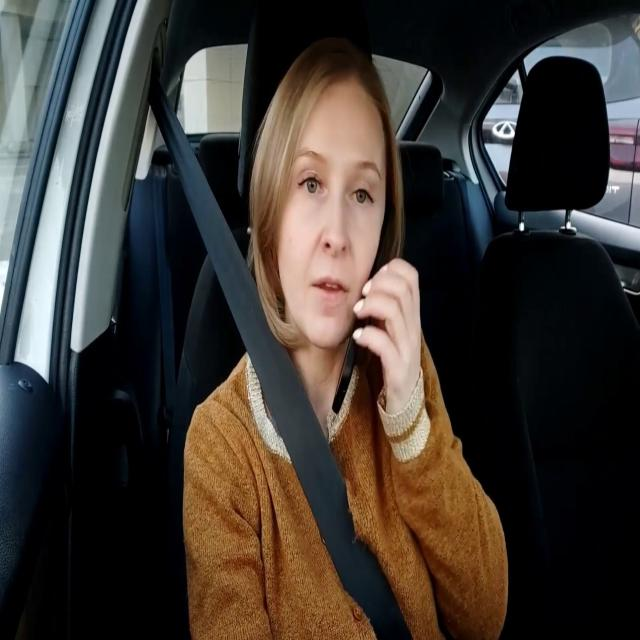phone: (331, 198, 397, 415)
